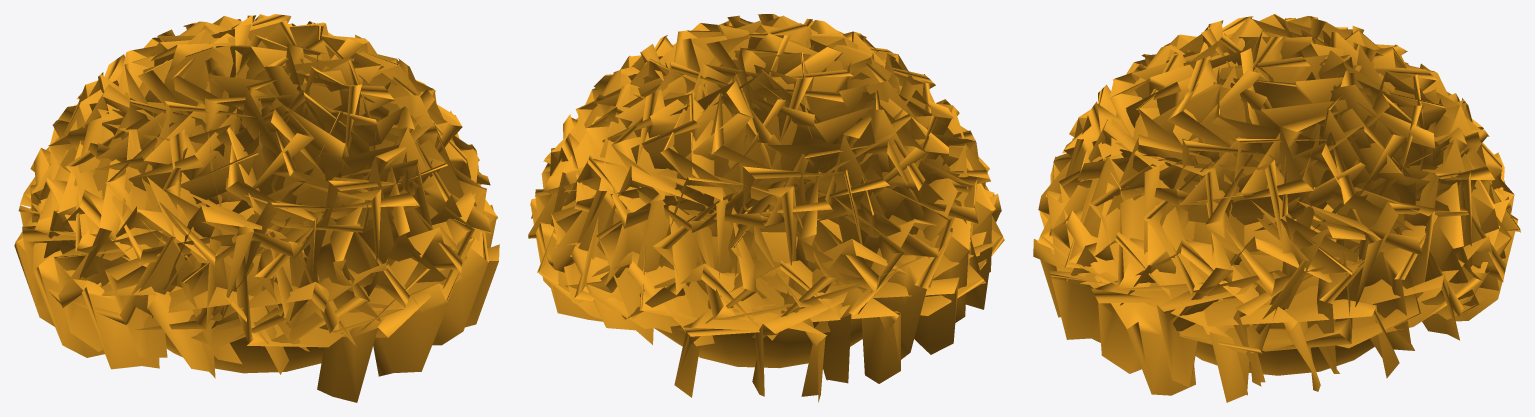
Rendered from marigold.glb.
3 renders of one model, left to right at view 1: azimuth 30°, elevation 25°; view 2: azimuth 150°, elevation 25°; view 3: azimuth 270°, elevation 25°, orthographic.
Parts seen in each view (by area): view 1: marigold; view 2: marigold; view 3: marigold.
Boxes of the visible parts, x1,y1,x2,y2 form: marigold: (14, 14, 499, 402); marigold: (528, 14, 1004, 402); marigold: (1033, 14, 1520, 402).
Size of the model in its own units: 0.1299 by 0.0947 by 0.1299.
